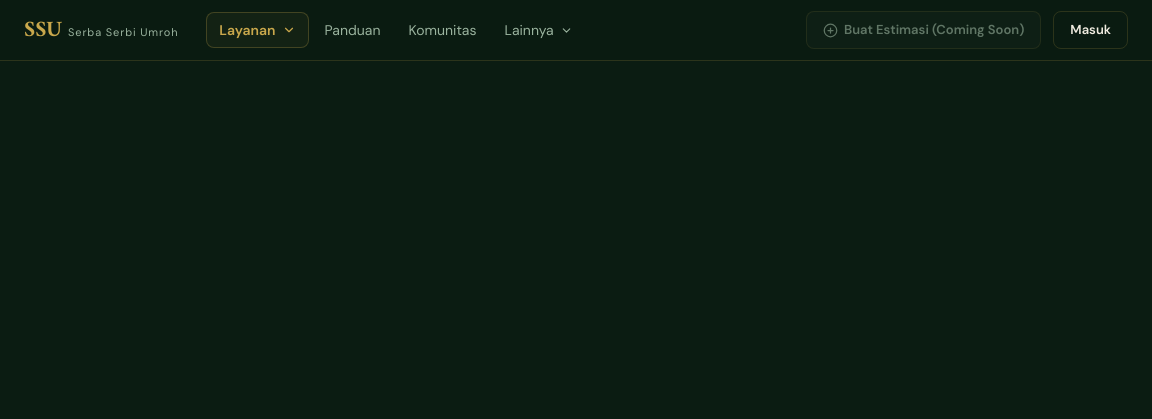
NavBar single-open coordination › closes Layanan when Lainnya is opened
What coordinates should you click on to do the following:
click the button "Layanan"
I would click on:
 (258, 30)
Its box is x1=206 y1=12 x2=309 y2=48.
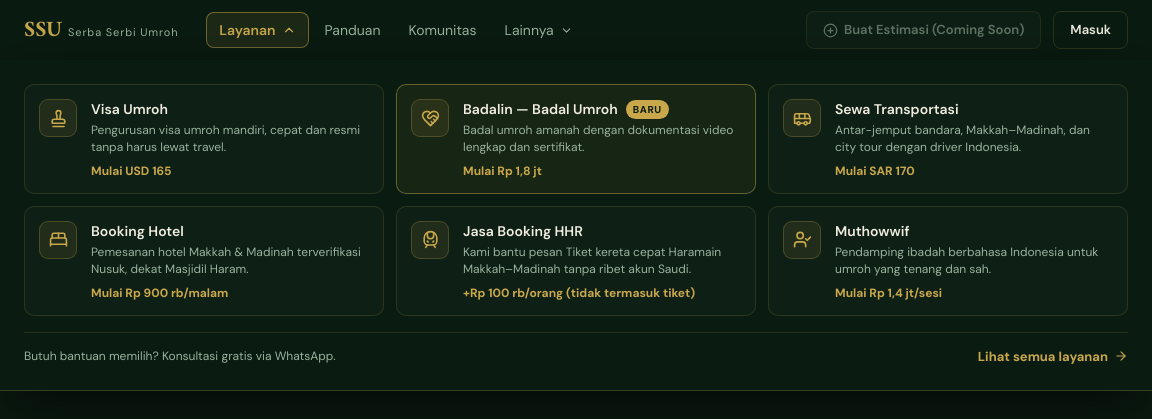
Now the link "Lihat semua layanan" is shown, box x1=978 y1=347 x2=1128 y2=366
What coordinates should you click on to do the following:
click the button "Lainnya"
I would click on:
 (539, 30)
Its box is x1=492 y1=13 x2=585 y2=47.
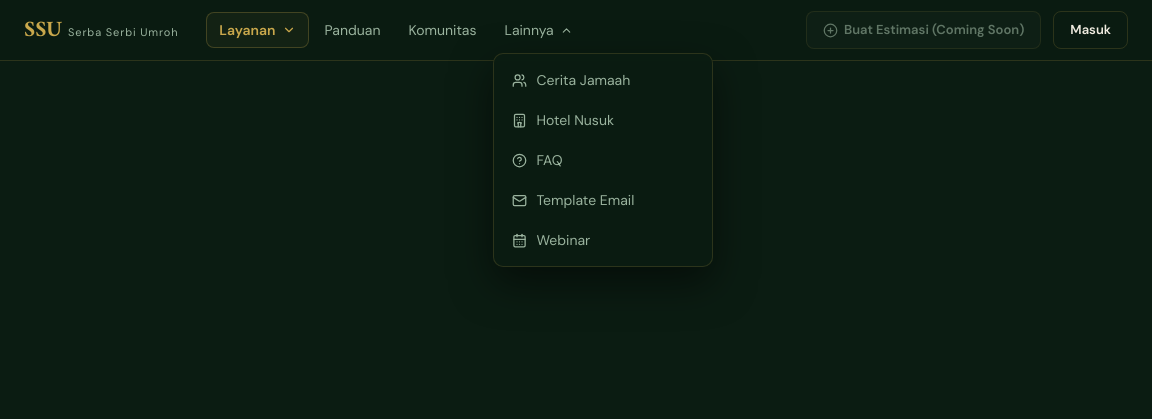
Now the link "Lihat semua layanan" is gone
Now the link "FAQ" is shown, box x1=512 y1=151 x2=563 y2=169
